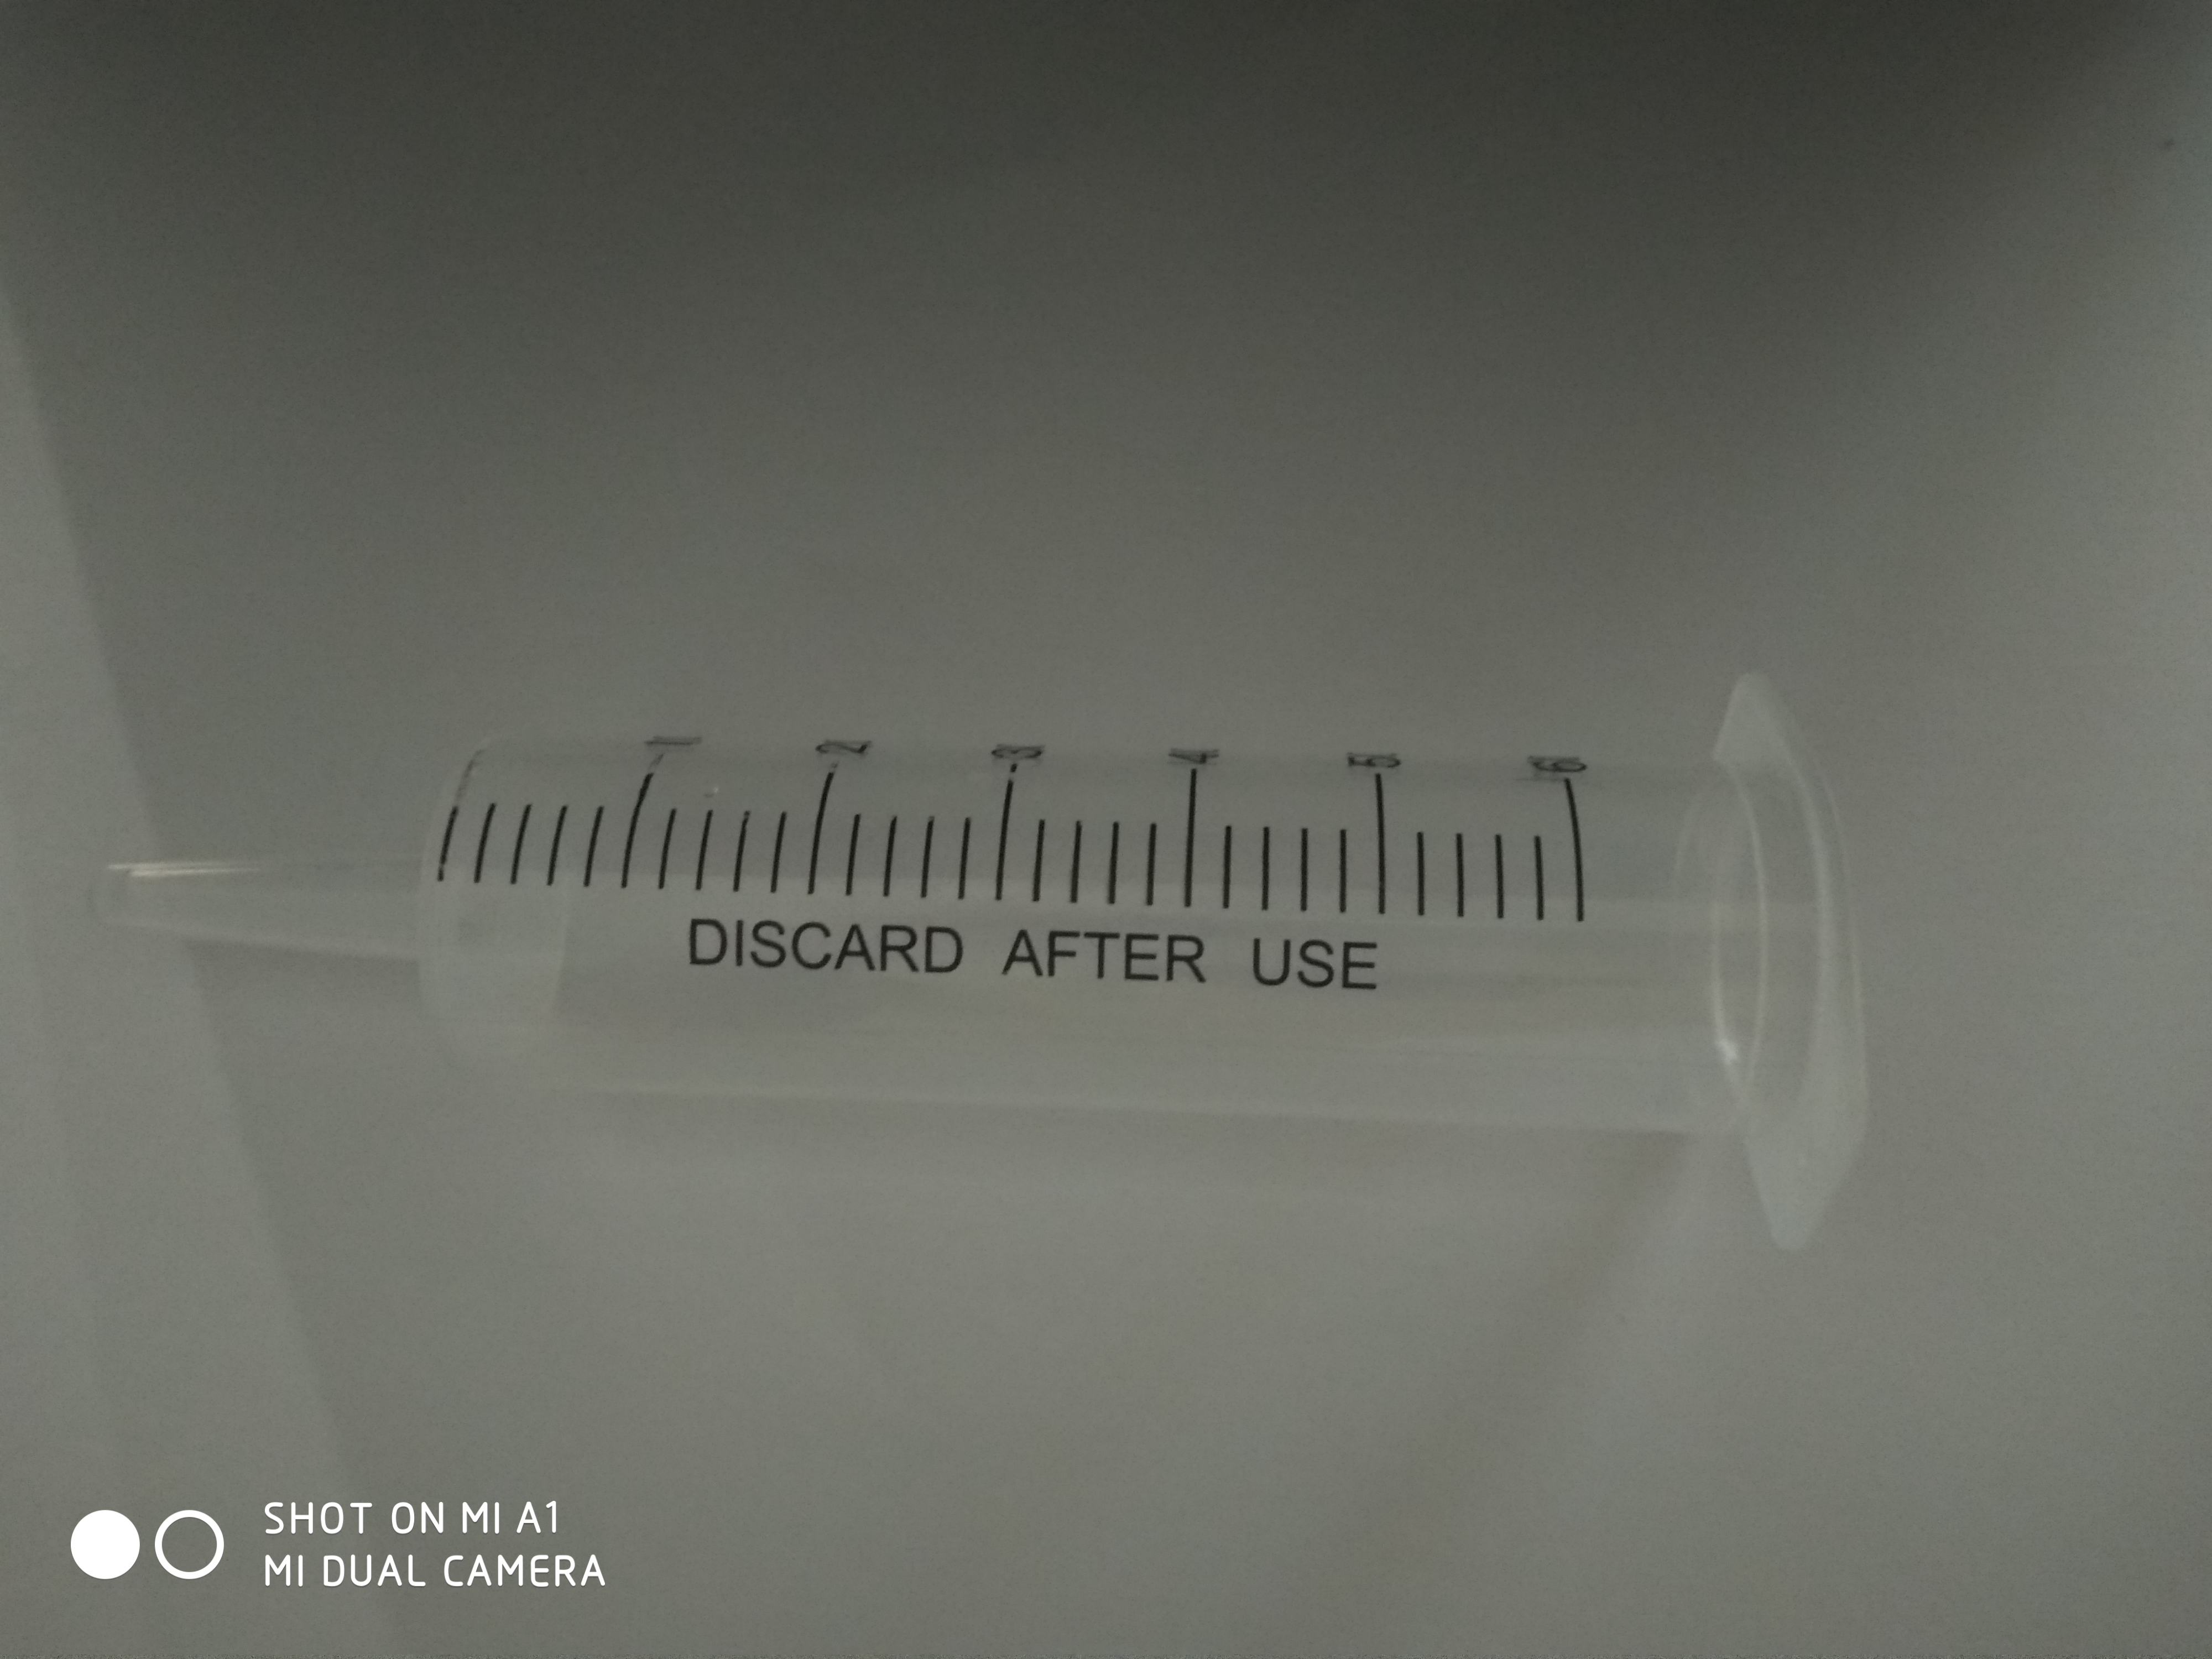syringe: (85, 667, 1881, 1262)
